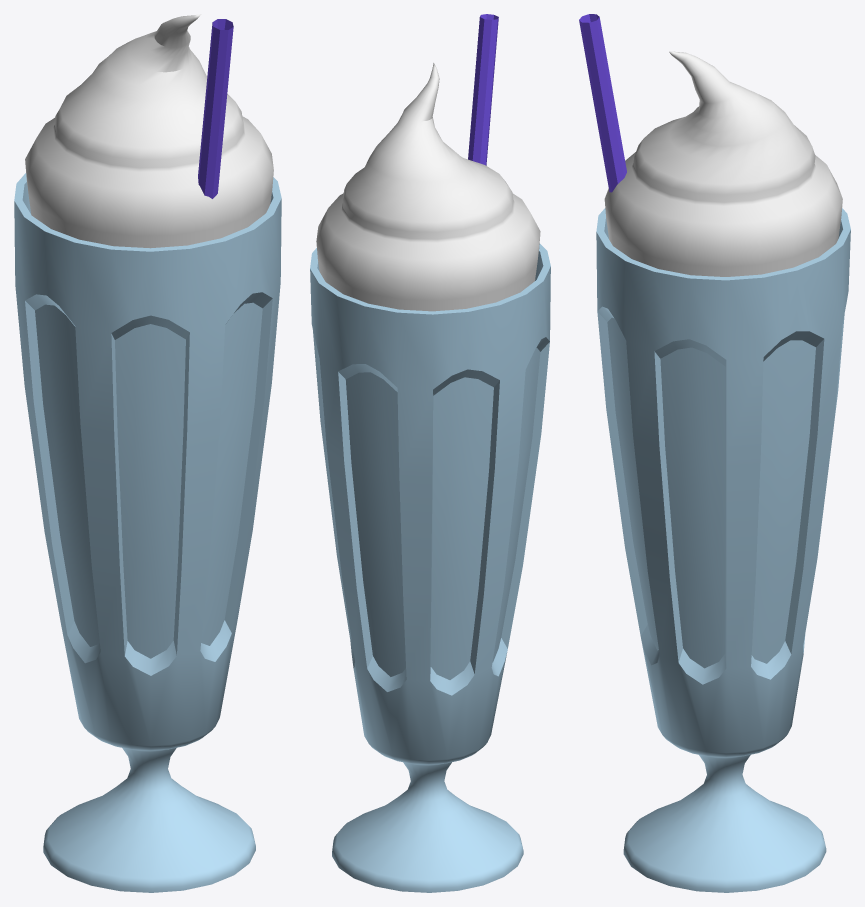
The model's file is smoothie.fbx.
3 views of the same model, side by side, from view 1: azimuth 30°, elevation 25°; view 2: azimuth 150°, elevation 25°; view 3: azimuth 270°, elevation 25° (orthographic). The views are drawn at different scales.
Visible parts, largest first — view 1: Smoothie; view 2: Smoothie; view 3: Smoothie.
Part boxes in pixels (bbox=[...]): Smoothie: bbox=[14, 14, 281, 892]; Smoothie: bbox=[310, 14, 550, 892]; Smoothie: bbox=[579, 14, 850, 892].
Size of the model in its own units: 1.27 by 4.59 by 1.36.
